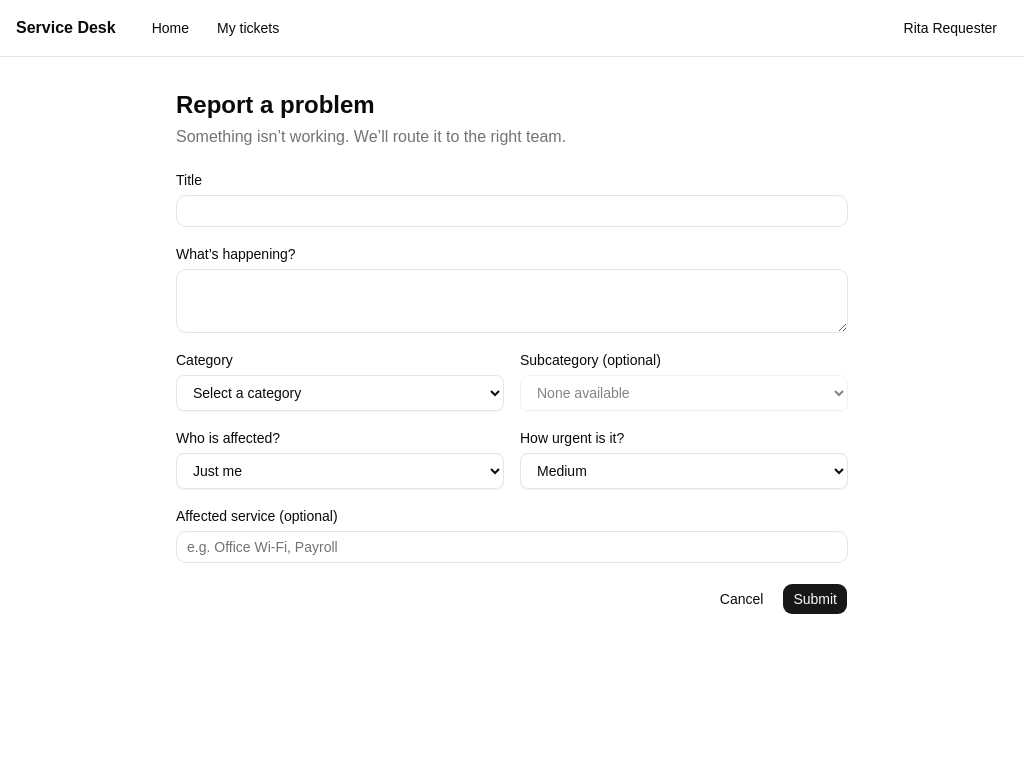
Test: report a problem › submits the incident and opens the new ticket
Type "Wi-Fi keeps dropping" into the field labelled "Title".
click(512, 211); type("Wi-Fi keeps dropping")  # box [176,195,848,227]
Type "Every few minutes" into the text box labelled "What’s happening?".
click(512, 301); type("Every few minutes")  # box [176,269,848,333]
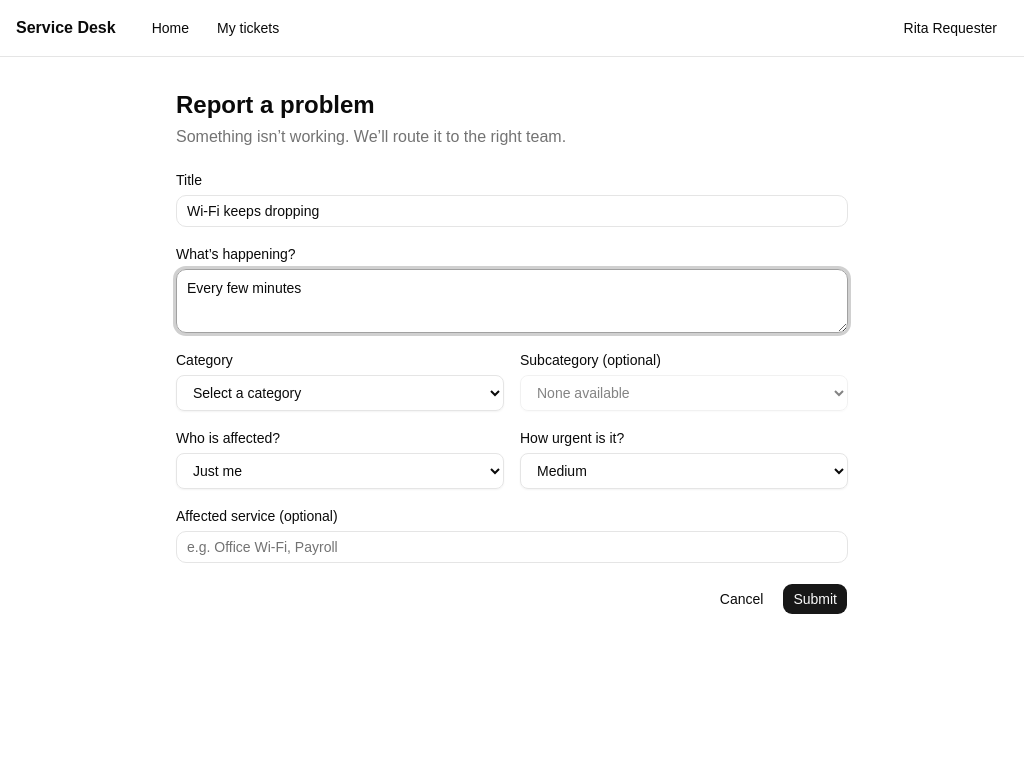
Select "Network" in the dropdown labelled "Category" at x=340, y=393, box [176,375,504,411]
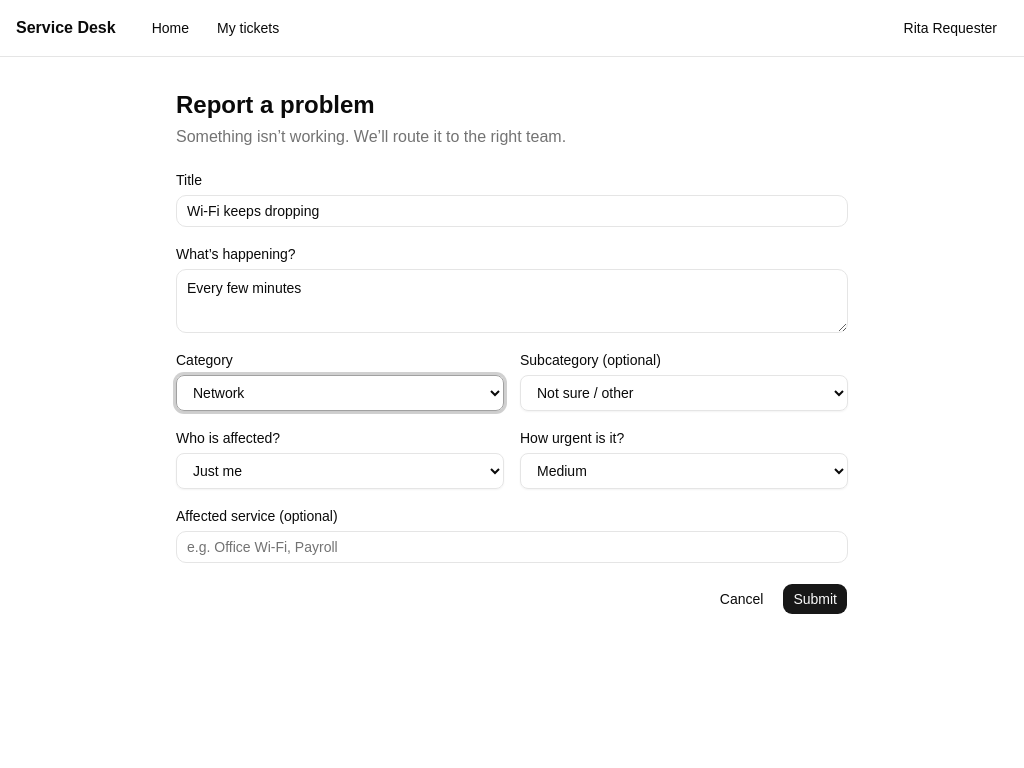
Select "Wi-Fi" in the dropdown labelled "Subcategory (optional)" at x=684, y=393, box [520,375,848,411]
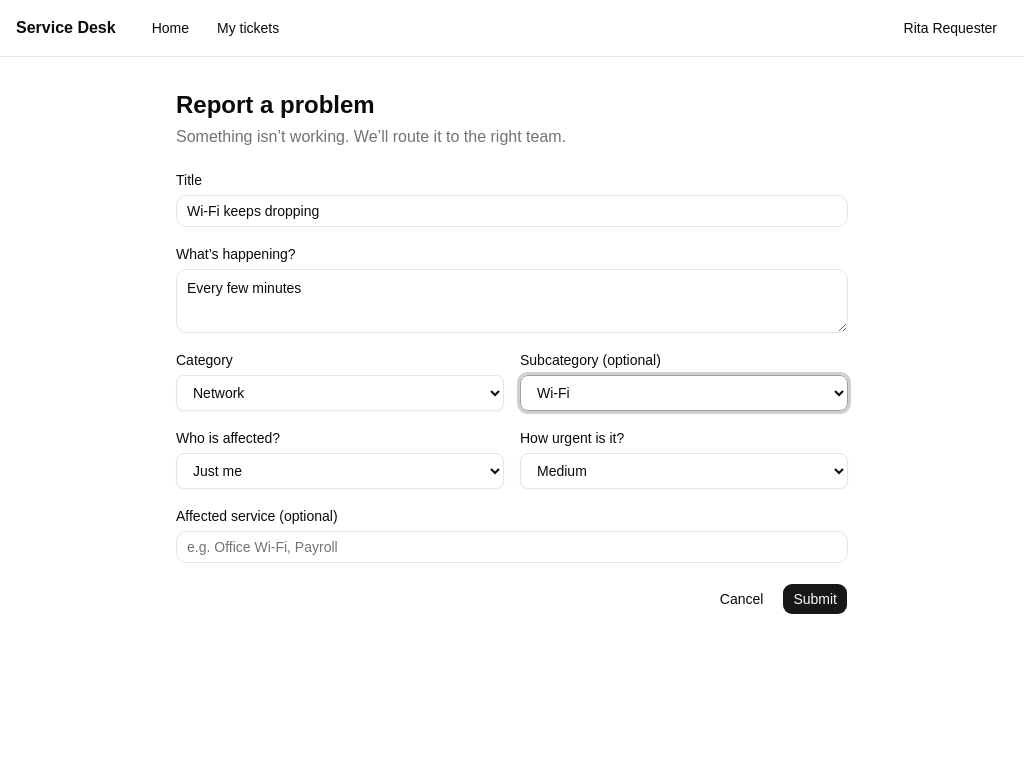
Select "My team or department" in the dropdown labelled "Who is affected?" at x=340, y=471, box [176,453,504,489]
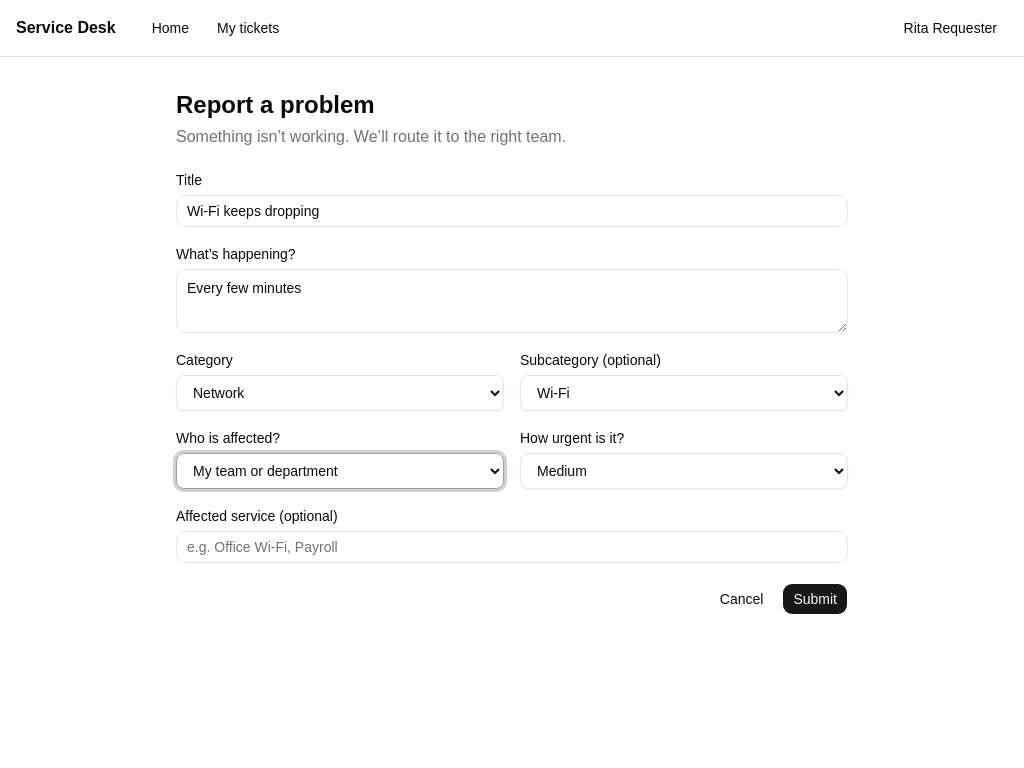
Select "High" in the dropdown labelled "How urgent is it?" at x=684, y=471, box [520,453,848,489]
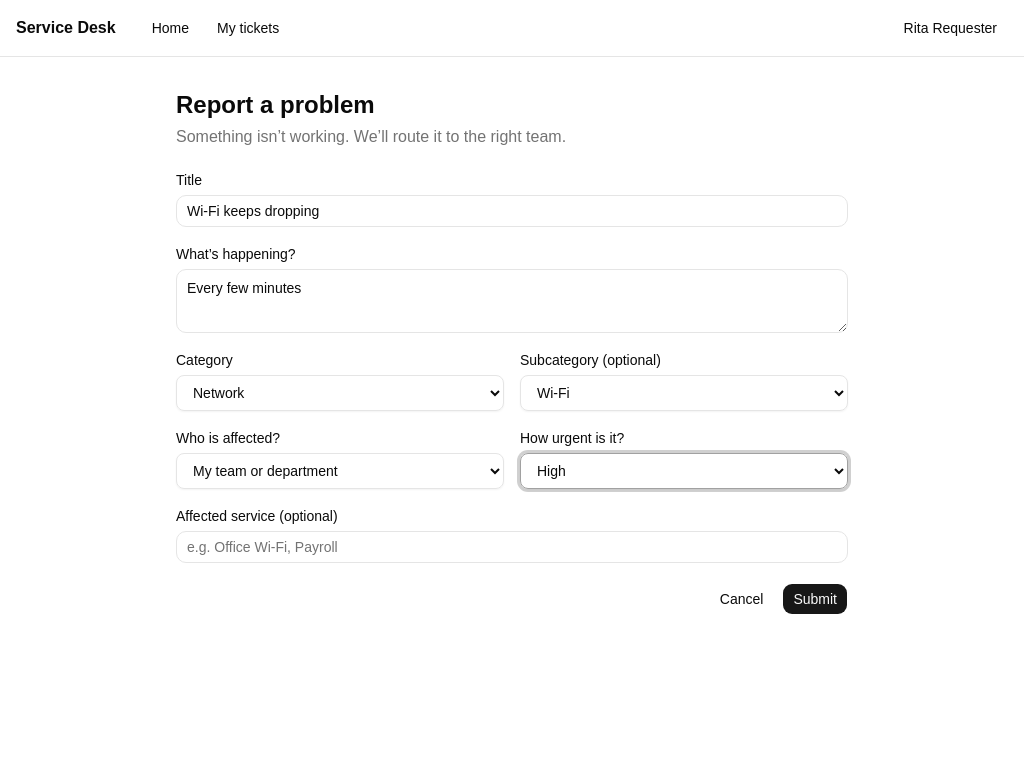
Click the button "Submit".
click(815, 599)  # box [782,583,848,615]
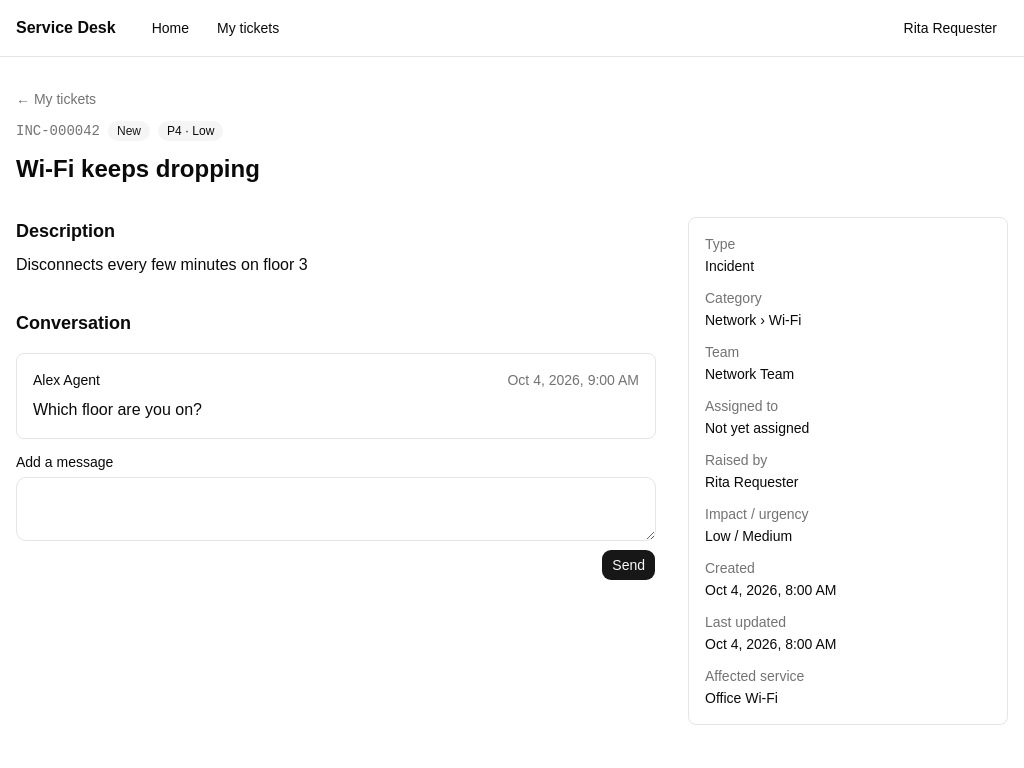
Check: the heading "Wi-Fi keeps dropping" is shown, box [16,155,260,182]
